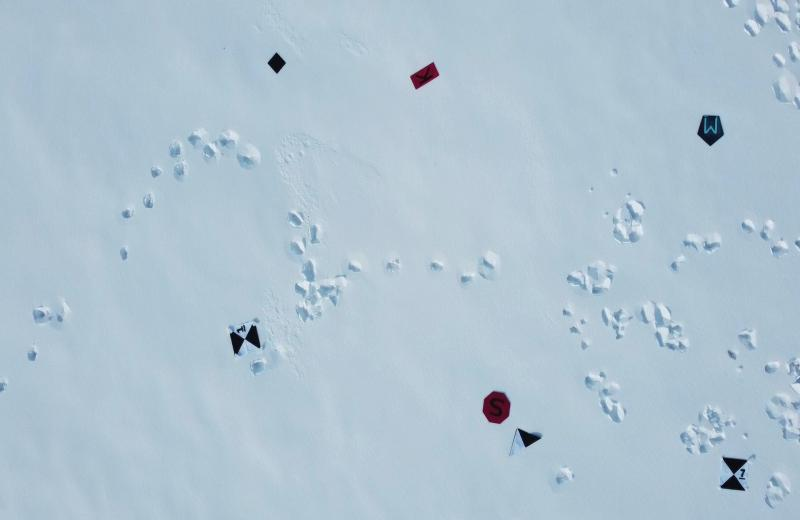Octagon: (478, 387, 514, 430)
Pentagon: (694, 110, 726, 151)
Rectangle: (408, 56, 442, 95)
Square: (264, 50, 288, 76)
